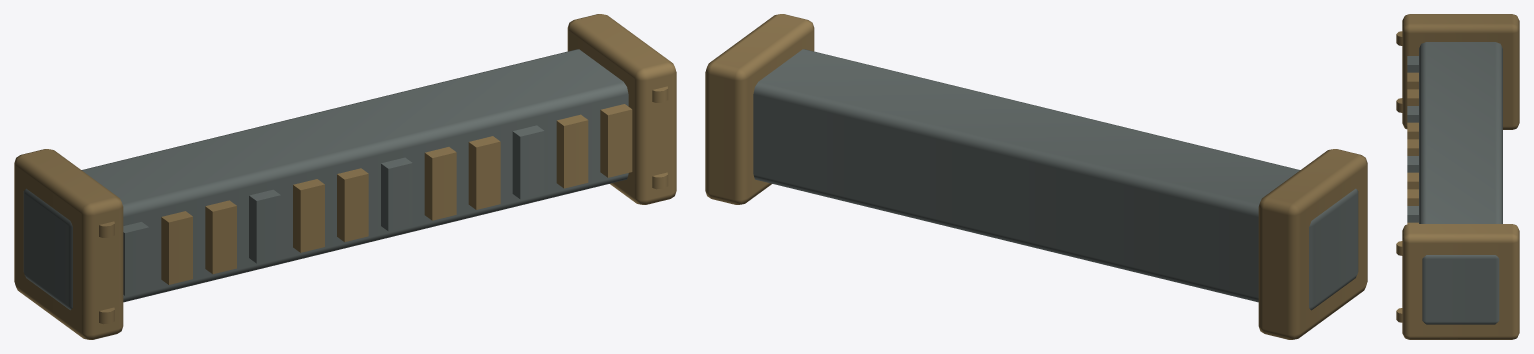
File: barrier-housing.glb
3 views of the same model, side by side, from view 1: azimuth 30°, elevation 25°; view 2: azimuth 150°, elevation 25°; view 3: azimuth 270°, elevation 25° (orthographic). The views are drawn at different scales.
Parts seen in each view (by area): view 1: correction-dark, correction-bronze; view 2: correction-dark, correction-bronze; view 3: correction-dark, correction-bronze.
Boxes of the visible parts, <box> form: correction-dark: <box>23,49,628,310</box>; correction-bronze: <box>14,14,676,339</box>; correction-dark: <box>753,49,1358,310</box>; correction-bronze: <box>705,14,1367,339</box>; correction-dark: <box>1407,42,1502,324</box>; correction-bronze: <box>1396,14,1519,339</box>.
Size of the model in its own units: 3.2 by 0.7 by 0.735.
